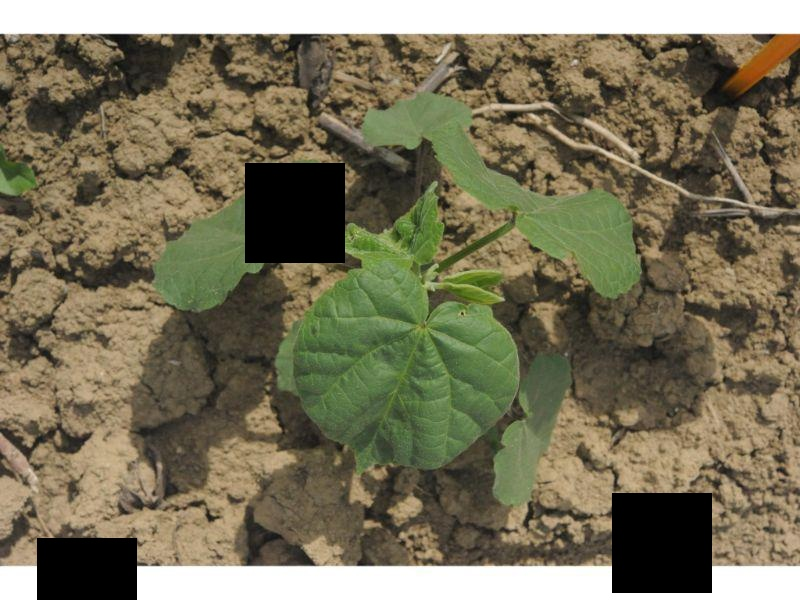velvet: (152, 89, 643, 507)
